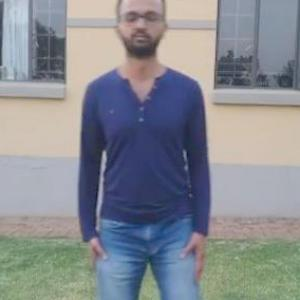follow: (52, 9, 162, 299)
